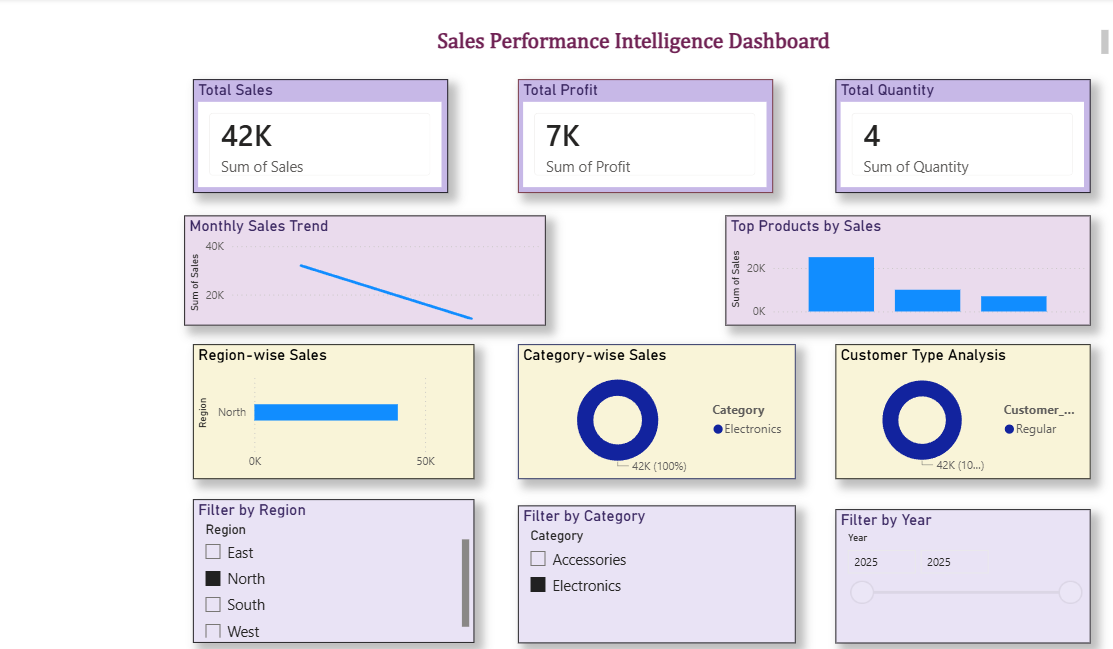

This screenshot's page, from the dashboard's own definition file:
{"tool":"powerbi","page":{"name":"Page 1","canvas":[1280,720],"ordinal":0},"visuals":[{"type":"cardVisual","title":"Total Sales","fields":{"Data":["Sum(cleaned_sales_data.Sales)"]},"box":[252.5,89.2,279.9,124.9],"z":0},{"type":"cardVisual","title":"Total Profit","fields":{"Data":["Sum(cleaned_sales_data.Profit)"]},"box":[609.3,89.2,279.9,124.9],"z":1000},{"type":"cardVisual","title":"Total Quantity","fields":{"Data":["Sum(cleaned_sales_data.Quantity)"]},"box":[957.8,89.2,279.9,124.9],"z":2000},{"type":"lineChart","title":"Monthly Sales Trend","fields":{"Category":["cleaned_sales_data.Month"],"Y":["Sum(cleaned_sales_data.Sales)"]},"box":[242.9,238.8,396.6,120.8],"z":3000},{"type":"clusteredBarChart","title":"Region-wise Sales","fields":{"Category":["cleaned_sales_data.Region"],"Y":["Sum(cleaned_sales_data.Sales)"]},"box":[252.5,380.1,308.7,148.2],"z":4000},{"type":"clusteredColumnChart","title":"Top Products by Sales","fields":{"Category":["cleaned_sales_data.Product"],"Y":["Sum(cleaned_sales_data.Sales)"]},"box":[837.1,238.8,400.7,120.8],"z":5000},{"type":"donutChart","title":"Category-wise Sales","fields":{"Category":["cleaned_sales_data.Category"],"Y":["Sum(cleaned_sales_data.Sales)"]},"box":[609.3,380.1,304.6,148.2],"z":6000},{"type":"donutChart","title":"Customer Type Analysis","fields":{"Category":["cleaned_sales_data.Customer_Type"],"Y":["Sum(cleaned_sales_data.Sales)"]},"box":[957.8,380.1,279.9,148.2],"z":7000},{"type":"slicer","title":"Filter by Year","fields":{"Values":["cleaned_sales_data.Year"]},"box":[957.8,561.2,279.9,146.8],"z":8000},{"type":"slicer","title":"Filter by Region","fields":{"Values":["cleaned_sales_data.Region"]},"box":[252.5,550.3,308.7,157.8],"z":9000},{"type":"slicer","title":"Filter by Category","fields":{"Values":["cleaned_sales_data.Category"]},"box":[609.3,557.1,304.6,150.9],"z":10000},{"type":"textbox","box":[516,30.2,746.5,37],"z":11000}]}

Visuals, with their boxes in screenshot pixels (x1, y1, x2, y2):
"Total Sales" cardVisual: x1=183 y1=74 x2=441 y2=189
"Total Profit" cardVisual: x1=512 y1=74 x2=770 y2=189
"Total Quantity" cardVisual: x1=834 y1=74 x2=1092 y2=189
"Monthly Sales Trend" lineChart: x1=175 y1=211 x2=540 y2=323
"Region-wise Sales" clusteredBarChart: x1=183 y1=342 x2=468 y2=478
"Top Products by Sales" clusteredColumnChart: x1=722 y1=211 x2=1092 y2=323
"Category-wise Sales" donutChart: x1=512 y1=342 x2=793 y2=478
"Customer Type Analysis" donutChart: x1=834 y1=342 x2=1092 y2=478
"Filter by Year" slicer: x1=834 y1=509 x2=1092 y2=644
"Filter by Region" slicer: x1=183 y1=499 x2=468 y2=644
"Filter by Category" slicer: x1=512 y1=505 x2=793 y2=644
textbox: x1=426 y1=19 x2=1112 y2=53
